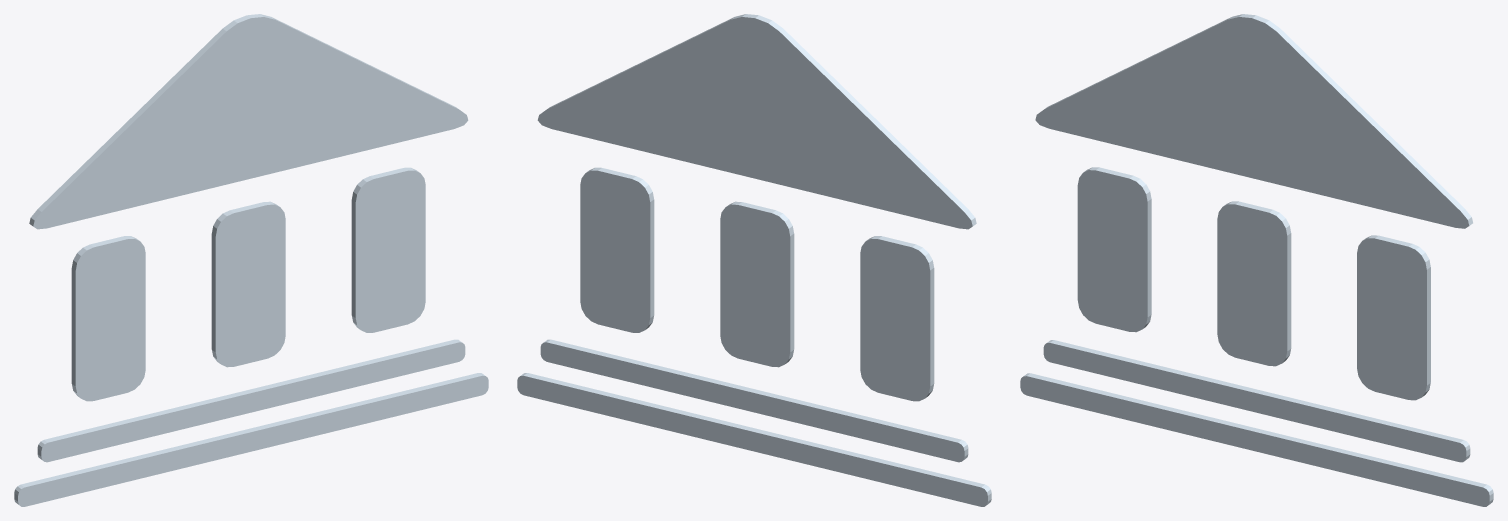
The model's file is Capital_3D_Icon.fbx.
The picture shows the model from 3 angles, left to right: view 1: azimuth 30°, elevation 25°; view 2: azimuth 150°, elevation 25°; view 3: azimuth 330°, elevation 25°; orthographic projection.
Parts seen in each view (by area): view 1: Capital_3D_Icon; view 2: Capital_3D_Icon; view 3: Capital_3D_Icon.
Part boxes in pixels (<box>): Capital_3D_Icon: <box>14,14,488,506</box>; Capital_3D_Icon: <box>517,14,991,506</box>; Capital_3D_Icon: <box>1020,14,1493,506</box>.
Size of the model in its own units: 136 by 120 by 2.
